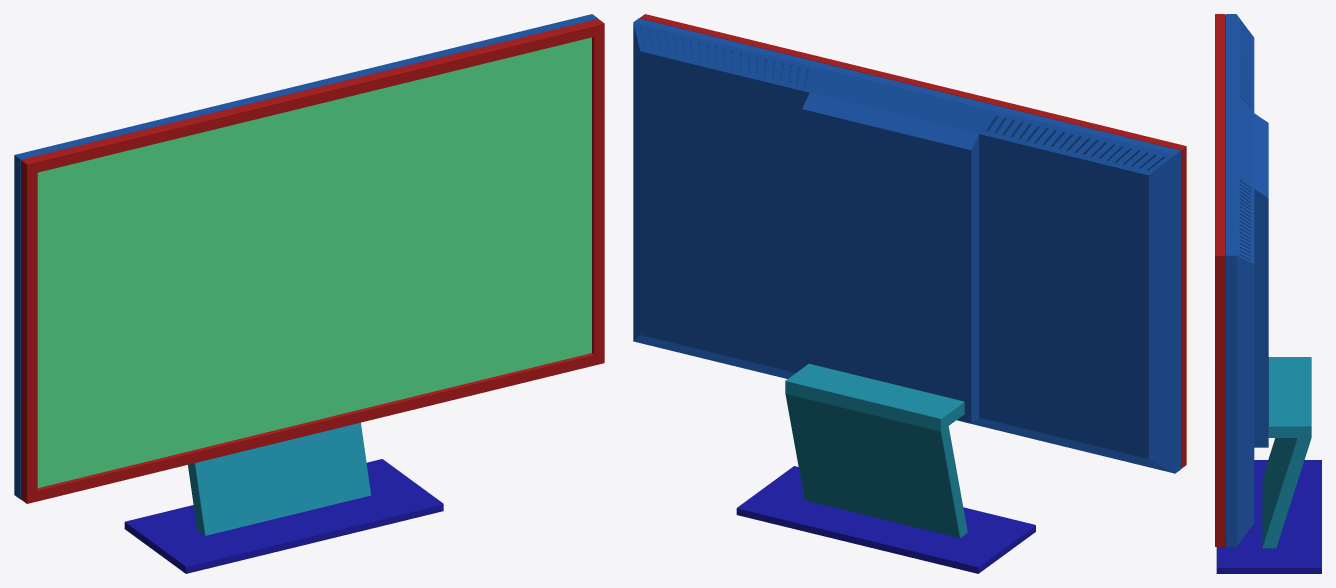
The model's file is monitor.obj.
The picture shows the model from 3 angles, left to right: view 1: azimuth 30°, elevation 25°; view 2: azimuth 150°, elevation 25°; view 3: azimuth 270°, elevation 25°; orthographic projection. The views are drawn at different scales.
Visible parts, largest first — view 1: pantalla, marco, soporte, pie, monitor; view 2: monitor, soporte, pie, marco; view 3: monitor, soporte, pie, marco.
Boxes of the visible parts, x1=… form: pantalla: x1=37, y1=37, x2=591, y2=487; marco: x1=21, y1=19, x2=604, y2=503; soporte: x1=188, y1=422, x2=370, y2=535; pie: x1=124, y1=459, x2=443, y2=573; monitor: x1=14, y1=14, x2=598, y2=499; monitor: x1=633, y1=18, x2=1180, y2=473; soporte: x1=785, y1=364, x2=967, y2=537; pie: x1=736, y1=466, x2=1035, y2=573; marco: x1=639, y1=14, x2=1186, y2=468; monitor: x1=1225, y1=14, x2=1268, y2=546; soporte: x1=1262, y1=357, x2=1311, y2=548; pie: x1=1216, y1=460, x2=1321, y2=573; marco: x1=1215, y1=14, x2=1225, y2=546.
Size of the model in its own units: 80 by 59.5 by 14.96.
